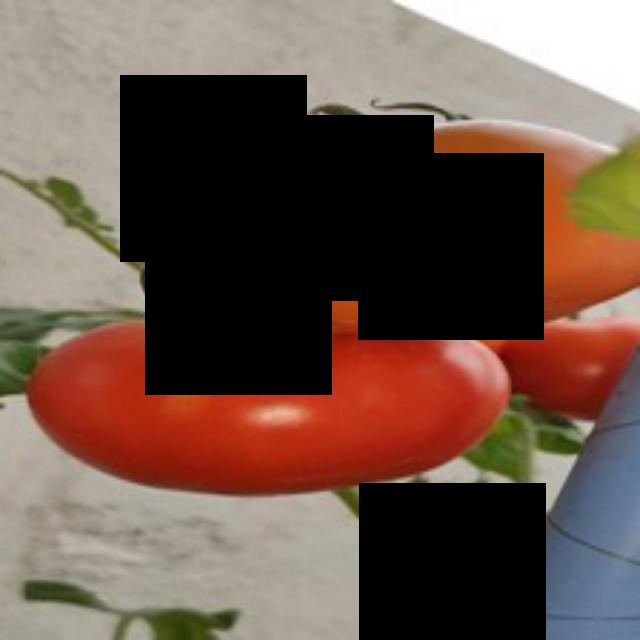tomato: (184, 113, 640, 334), (33, 317, 526, 508)
